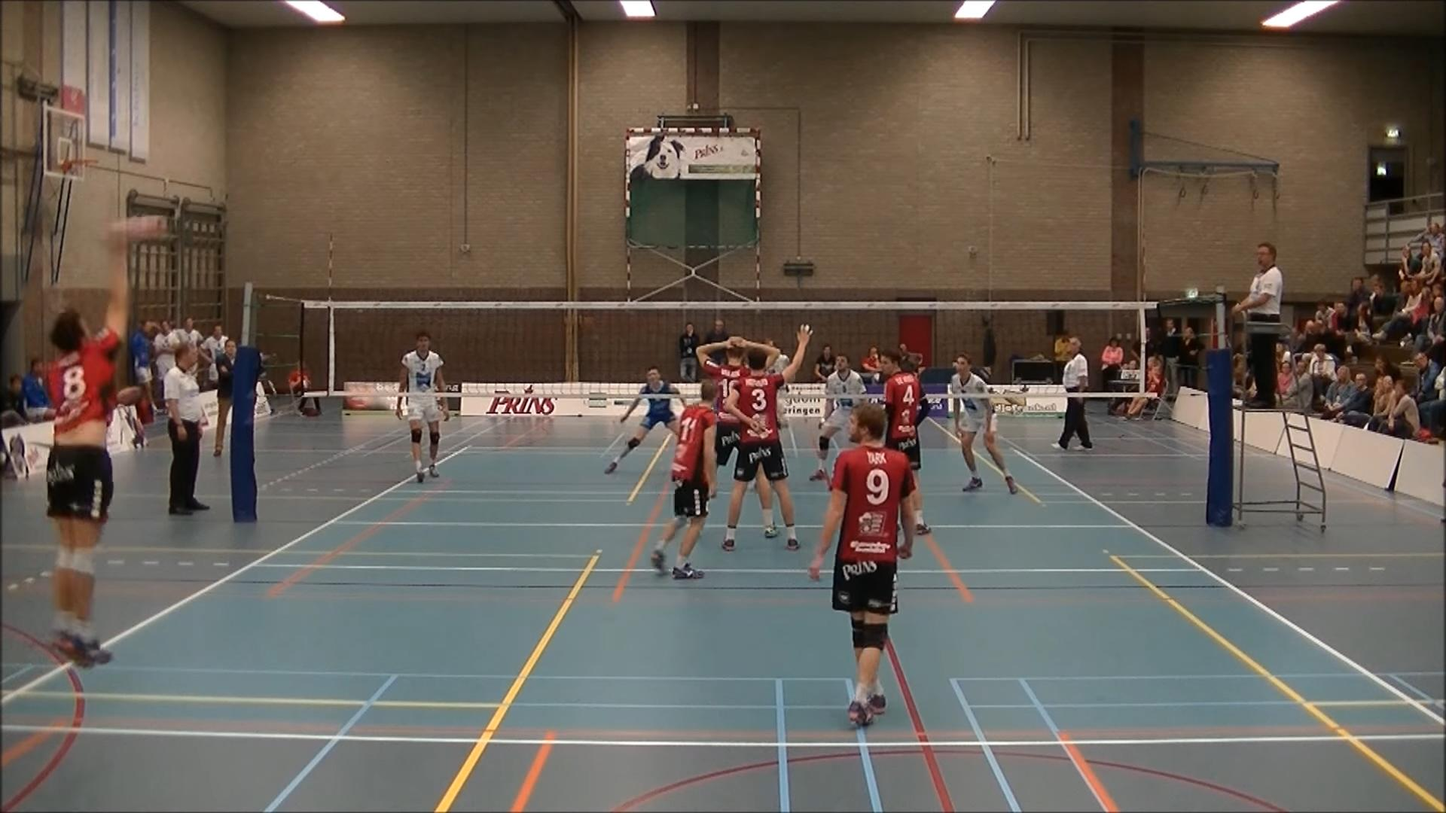Player: (808, 403, 917, 725), (723, 325, 811, 550), (651, 379, 718, 579), (696, 336, 778, 467), (948, 353, 1017, 493), (605, 367, 680, 473), (396, 330, 447, 482), (810, 354, 866, 480), (880, 350, 926, 480), (765, 339, 791, 373)
Serve: (18, 217, 137, 672)
ball: (102, 213, 162, 251)
